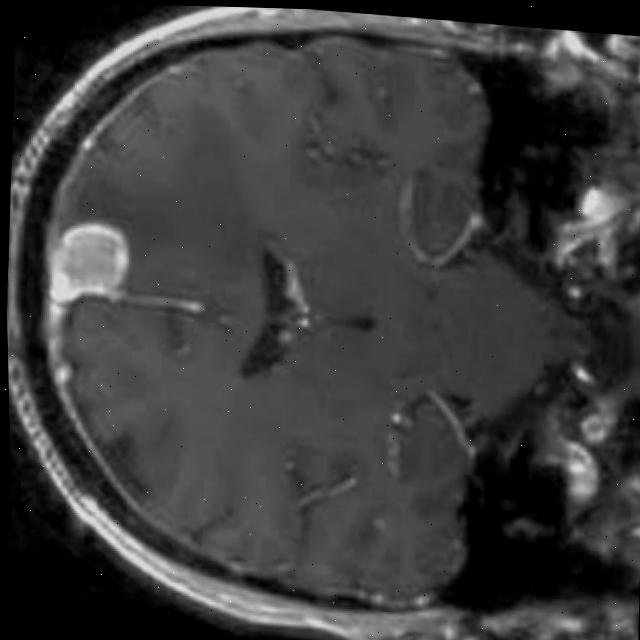Meningioma: (43, 217, 138, 313)
